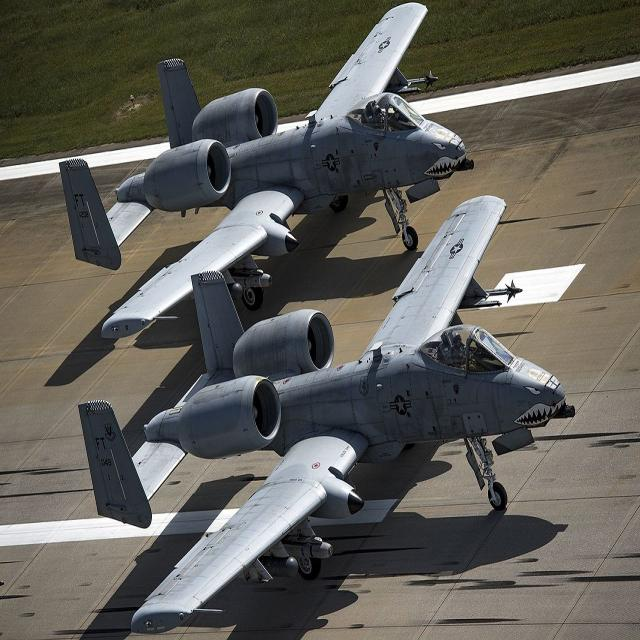MIL_Plane: (78, 195, 575, 637), (58, 2, 474, 338)
